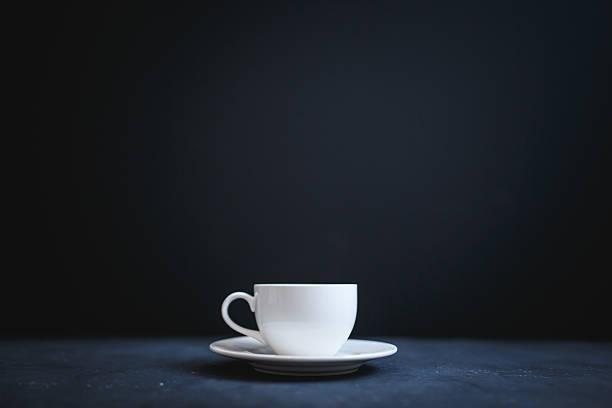cup-handle: (220, 281, 359, 357)
